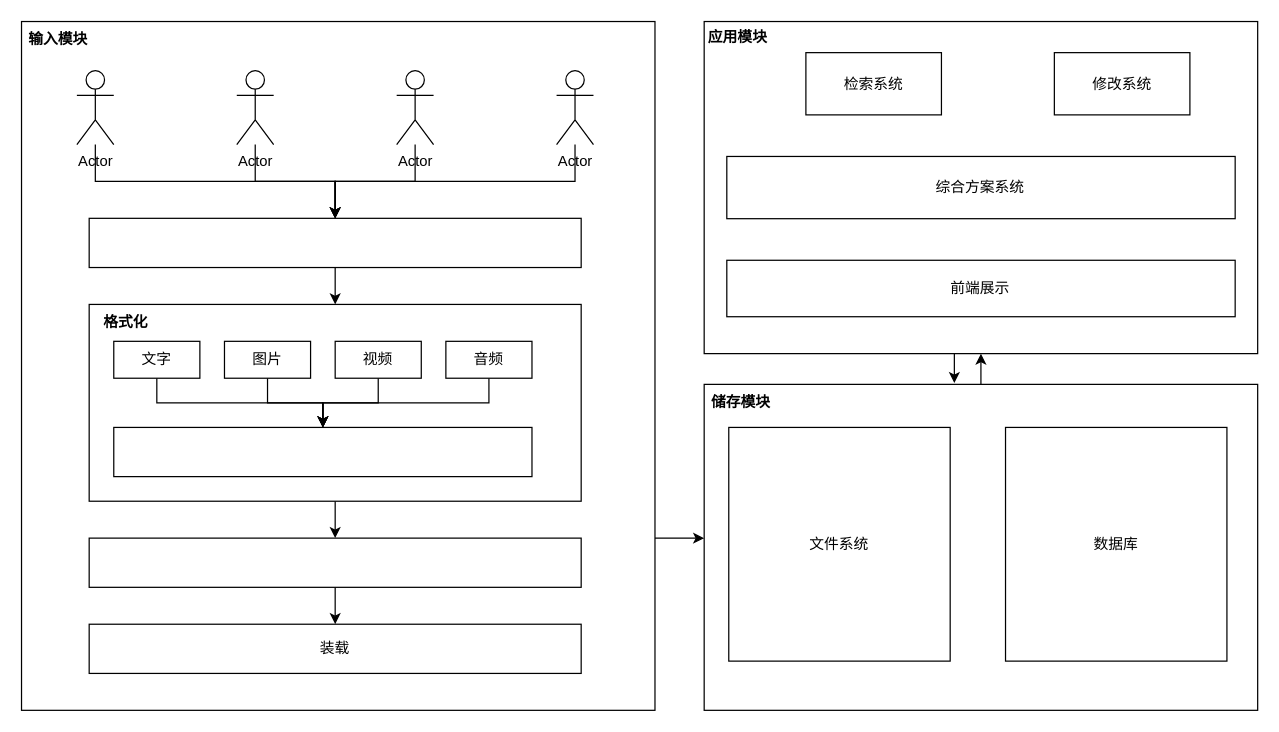
Image size: 1279x732. Some labels were removed from this diagram. Each missing label, with the centre of its shape:
"分类" belongs at pixel 334 562.
"灵感采集" belongs at pixel 334 242.
"特征码" belongs at pixel 322 451.
